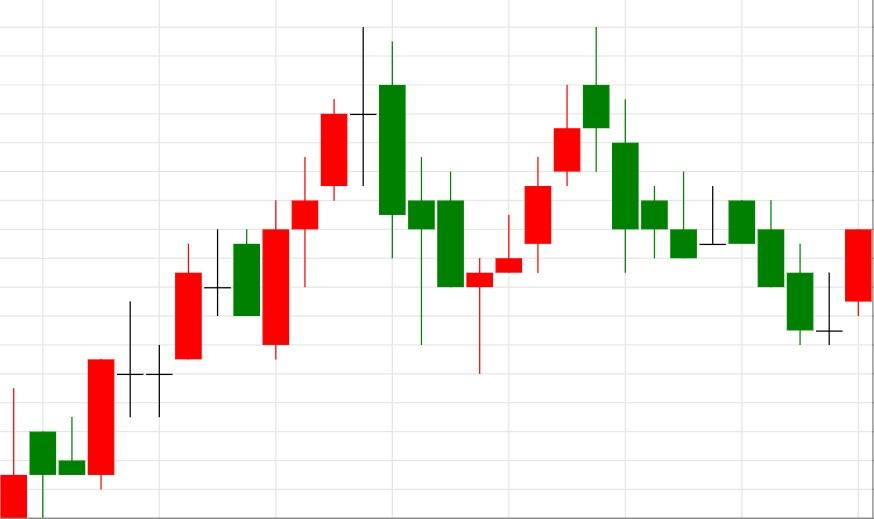evening_star_fall: (0, 28, 407, 518)
three_white_soldiers_rise: (348, 27, 553, 374)
